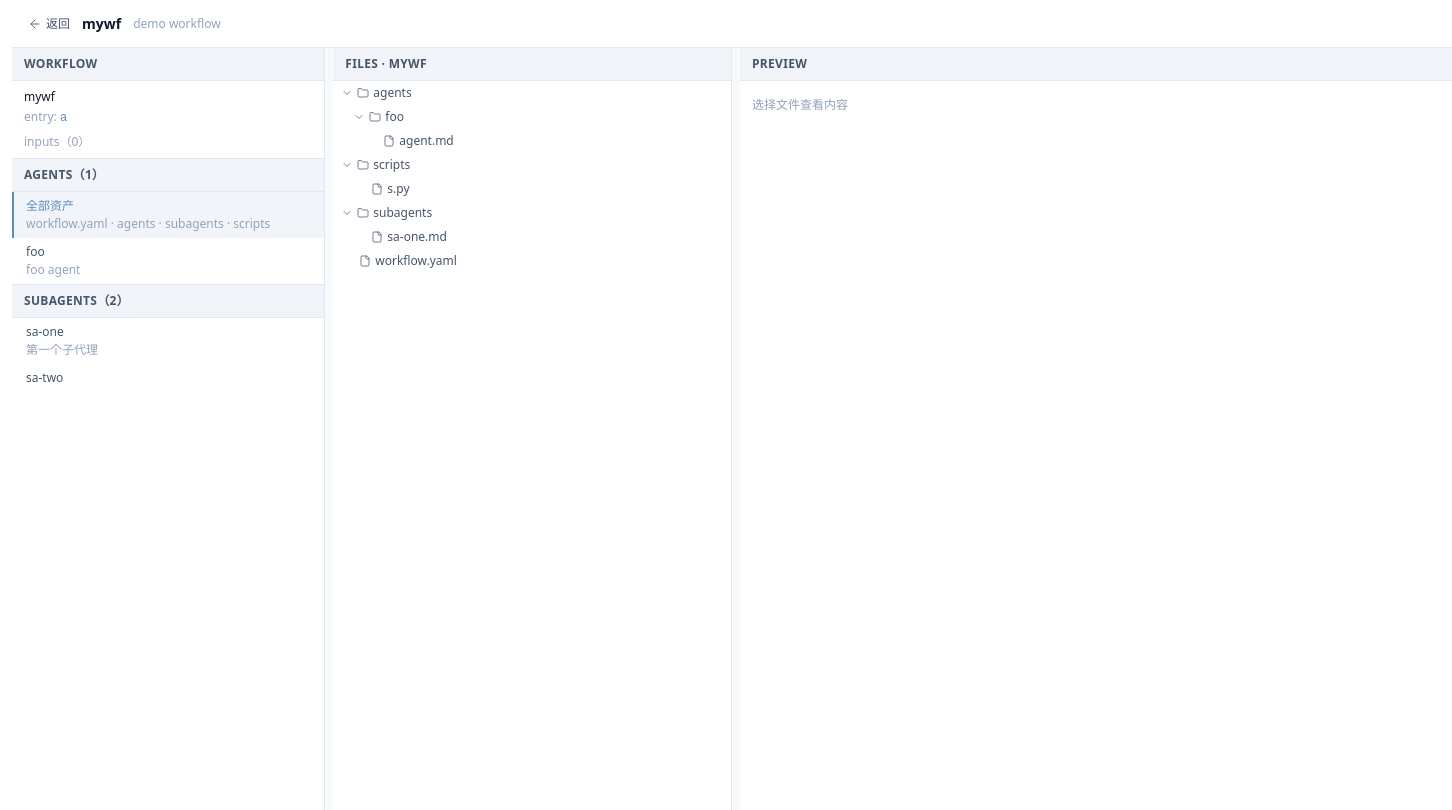
Scenario: WorkflowBrowsePage（批 G 全资产浏览） › 点 agent 行 → 中栏切 agent 树（header Files · foo + fetch agent tree）
The image size is (1452, 810).
Expected: the button with test id "tree-file-workflow.yaml" is shown, [333, 249, 731, 273]
Click the button with test id "agent-row-foo": (53, 270) [12, 238, 324, 284]
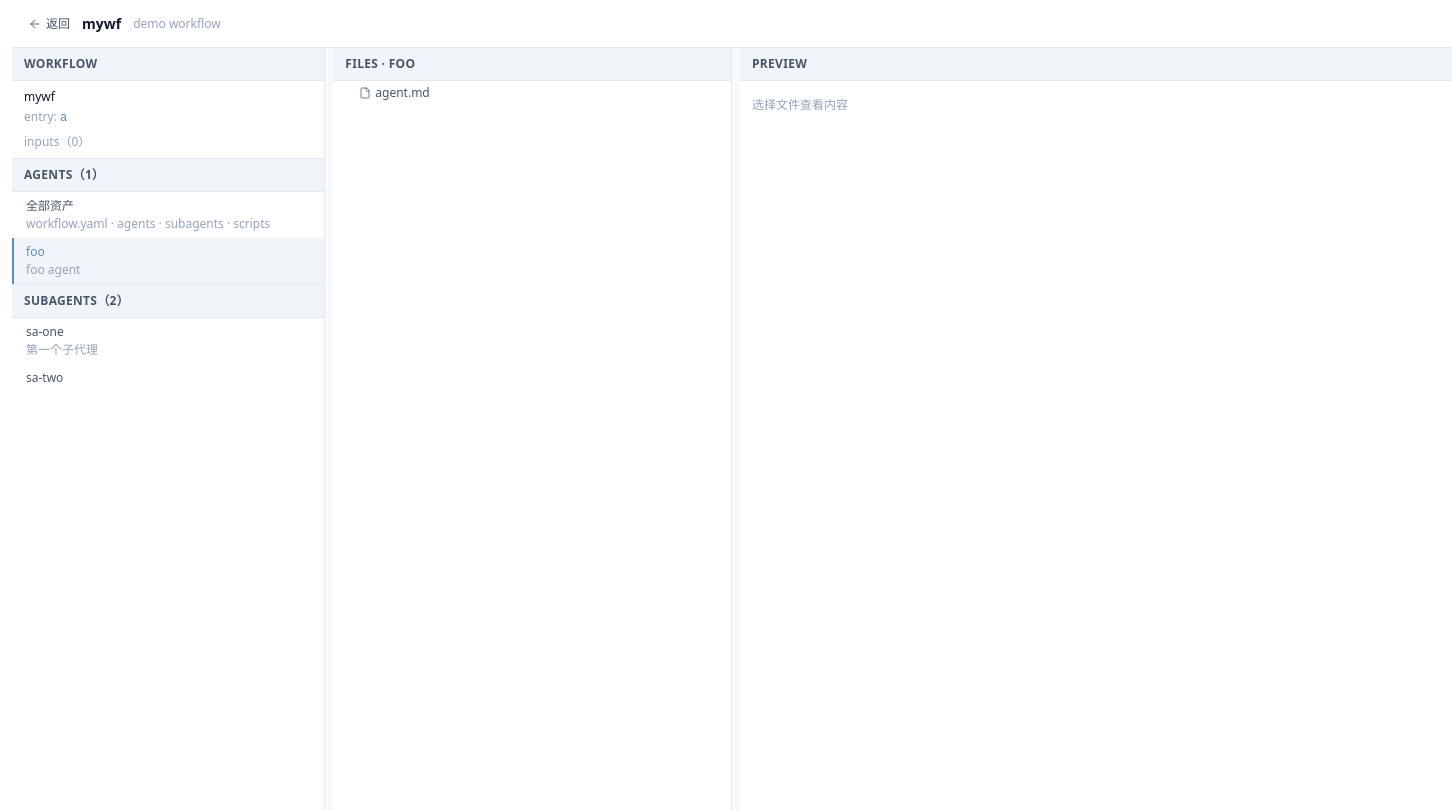
Expected: the button with test id "tree-file-agent.md" is shown, [333, 81, 731, 105]
Now the text "Files · foo" is shown, box [333, 48, 731, 81]
